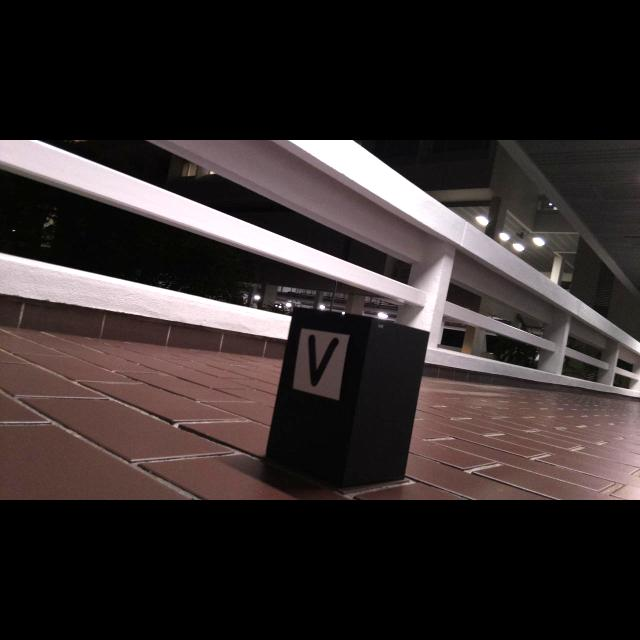V: (307, 334, 339, 385)
